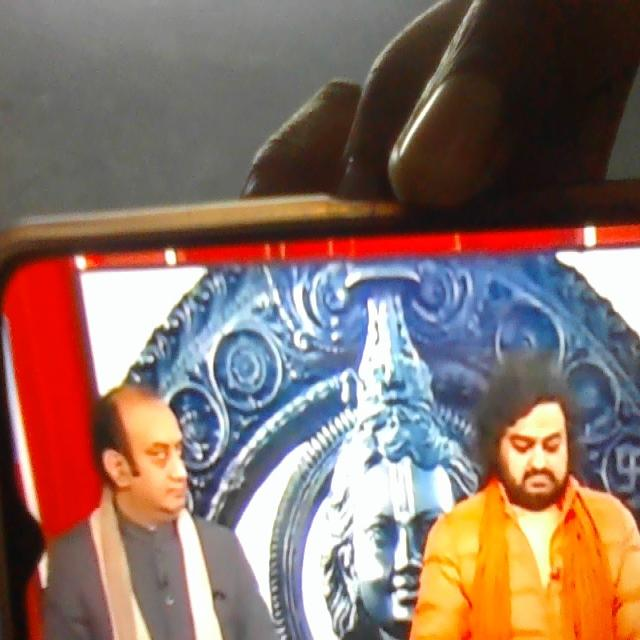fake: (477, 301, 592, 519)
